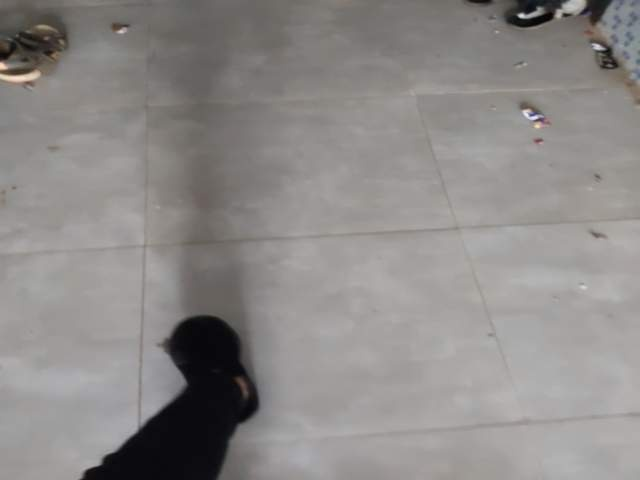pothole: (169, 397, 347, 480)
